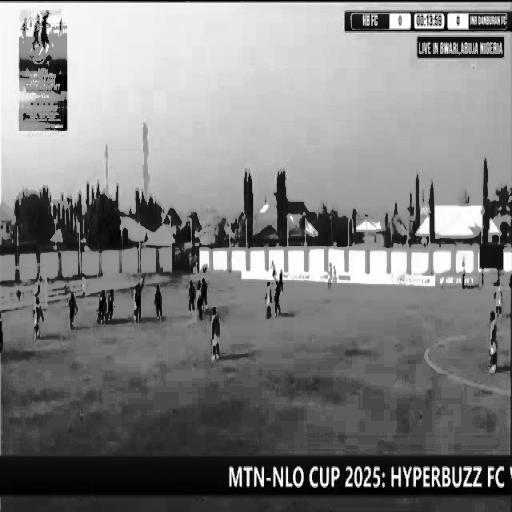referee: (196, 284, 202, 320)
team1: (485, 312, 500, 372), (209, 302, 221, 361), (263, 279, 273, 318), (494, 276, 502, 320), (33, 300, 42, 338), (103, 288, 108, 326), (133, 283, 138, 320), (70, 299, 71, 314)
team2: (64, 290, 81, 328), (272, 274, 282, 322), (186, 272, 194, 313), (108, 279, 115, 322), (155, 284, 163, 320), (136, 286, 144, 321), (202, 278, 209, 307), (99, 284, 103, 326)
